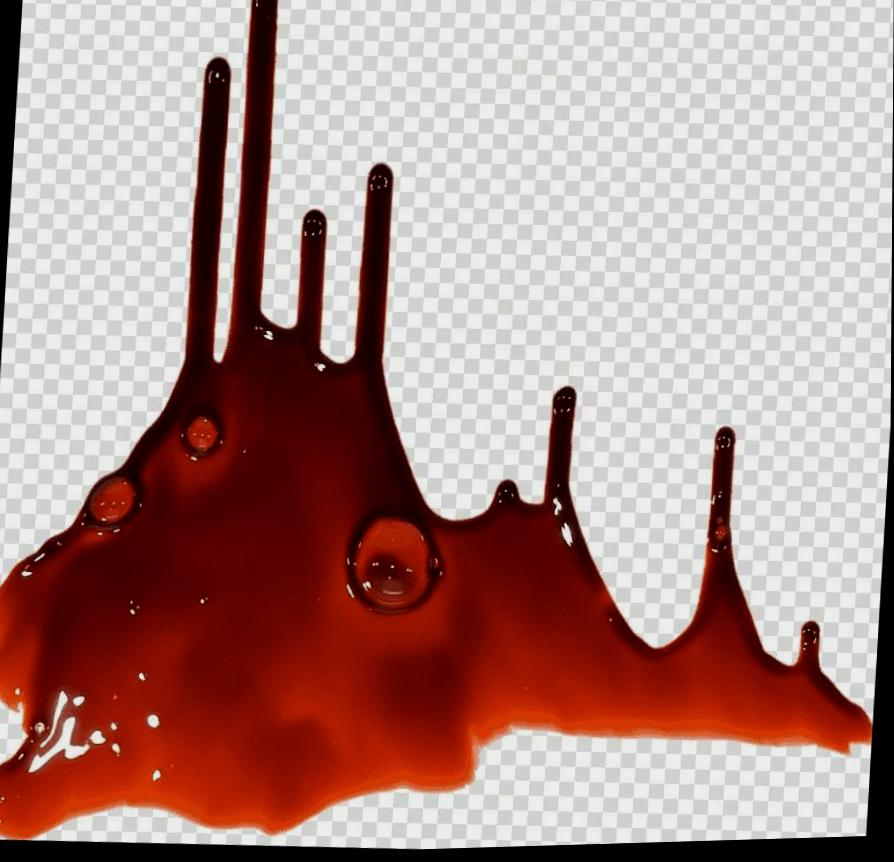Fire: (0, 0, 873, 840)
